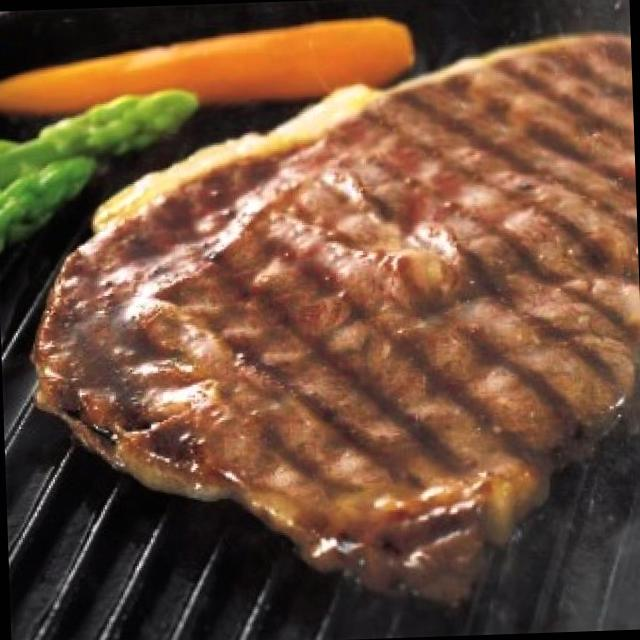Beef Steak: (39, 78, 640, 563)
